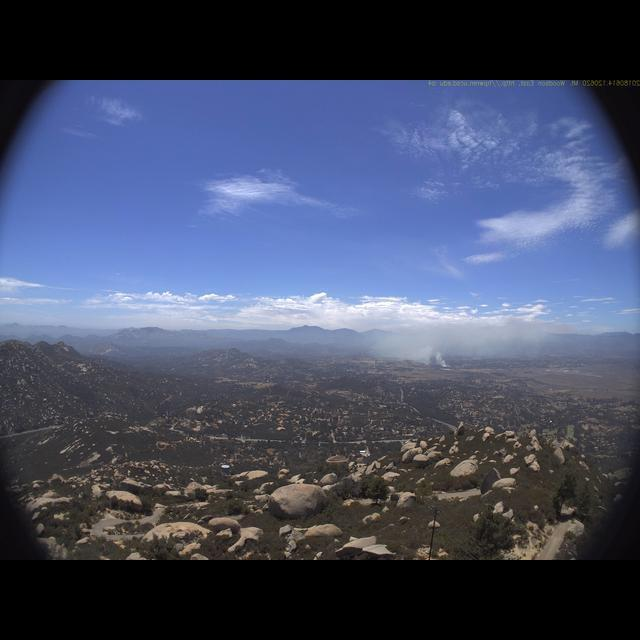Smoke: (369, 311, 541, 367)
